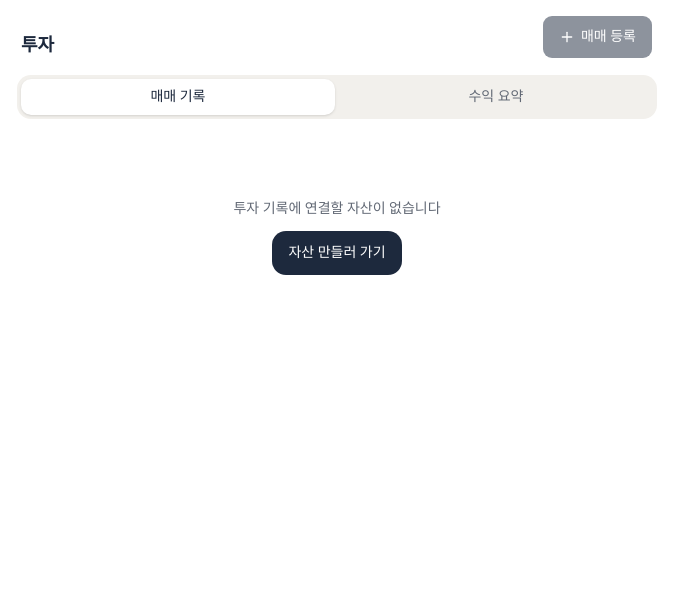
Scenario: InvestmentsScreen › 수익 요약 탭으로 전환하면 합계가 표시된다
The image size is (675, 590).
Click the tab with test id "investments-tab-summary" at (496, 97), box left=339, top=79, right=653, bottom=115
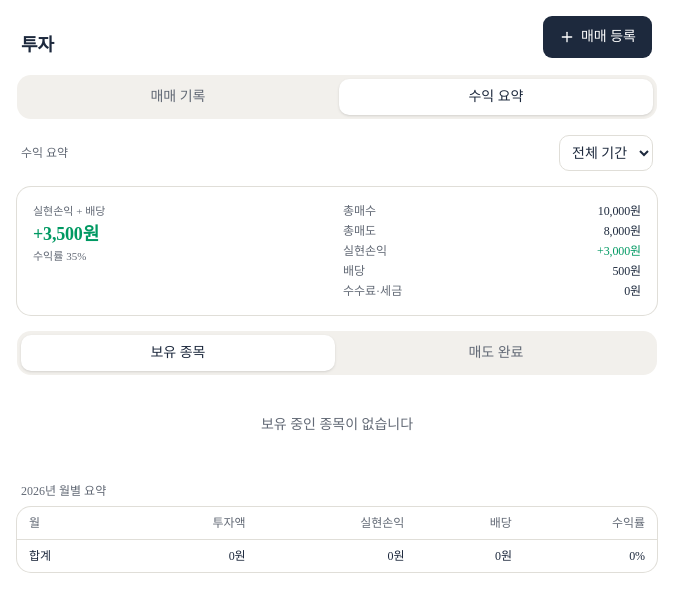
Expected: the text with test id "summary-net-profit" reads "+3,500원", left=33, top=224, right=99, bottom=244
Expected: the text "수익률 35%" is shown, left=33, top=250, right=86, bottom=262
